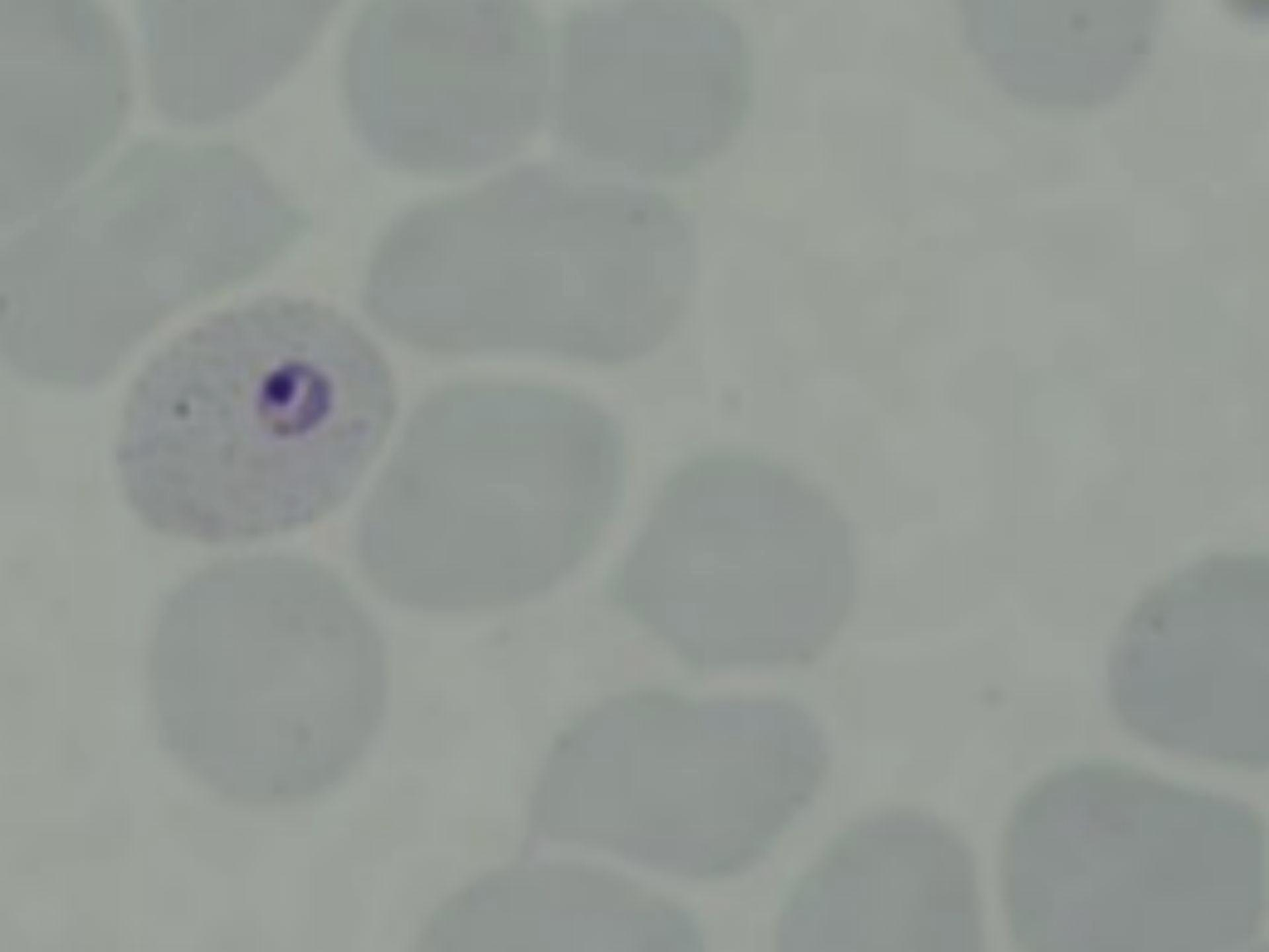Infected: (119, 300, 398, 540)
Uninfected: (4, 140, 298, 396), (134, 556, 394, 805), (361, 164, 689, 361), (368, 375, 623, 608), (546, 684, 823, 871), (628, 450, 858, 671), (344, 1, 552, 170), (551, 0, 751, 170)
